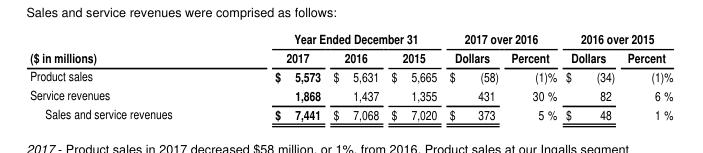table: (29, 29, 672, 122)
table column: (29, 29, 222, 122), (222, 29, 326, 122), (442, 29, 504, 122), (560, 29, 620, 122), (326, 29, 384, 122), (384, 29, 442, 122), (504, 29, 560, 122), (620, 29, 672, 122)
table column header: (29, 29, 672, 65)
table row: (29, 65, 672, 84), (29, 84, 672, 103), (29, 103, 672, 122), (29, 29, 672, 47), (29, 47, 672, 65)
table spanning cell: (29, 29, 222, 65), (222, 29, 442, 47), (442, 29, 560, 47), (560, 29, 672, 47)
